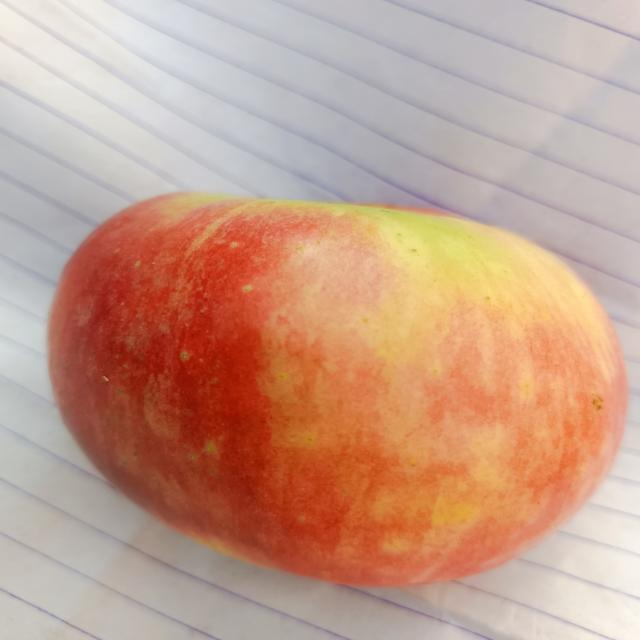Fresh Apple: (48, 192, 625, 590)
